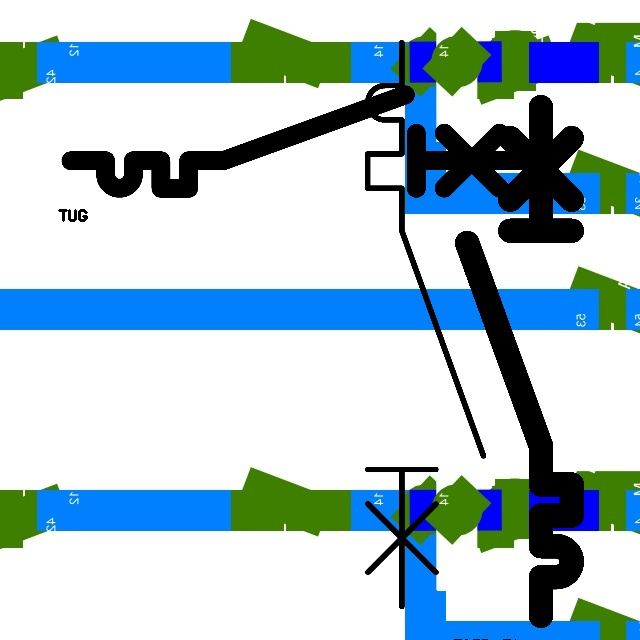interruptor_termomagnetico: (353, 28, 498, 620), (454, 94, 585, 629), (59, 83, 539, 200)
